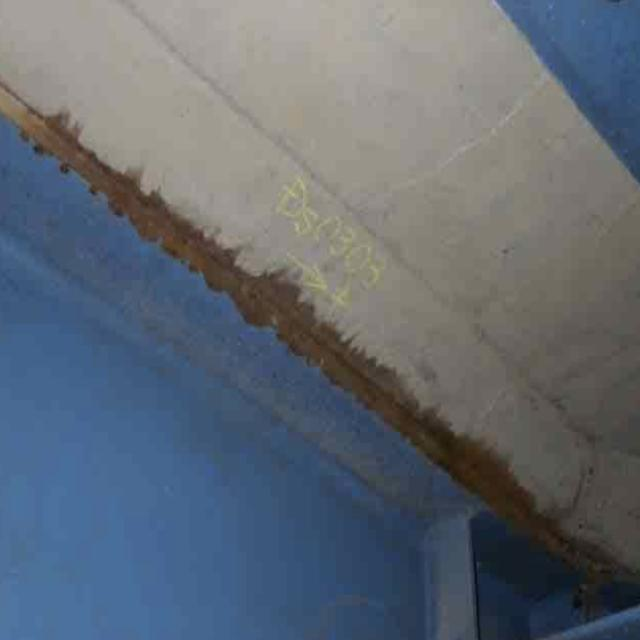corrosion: (28, 111, 596, 570)
